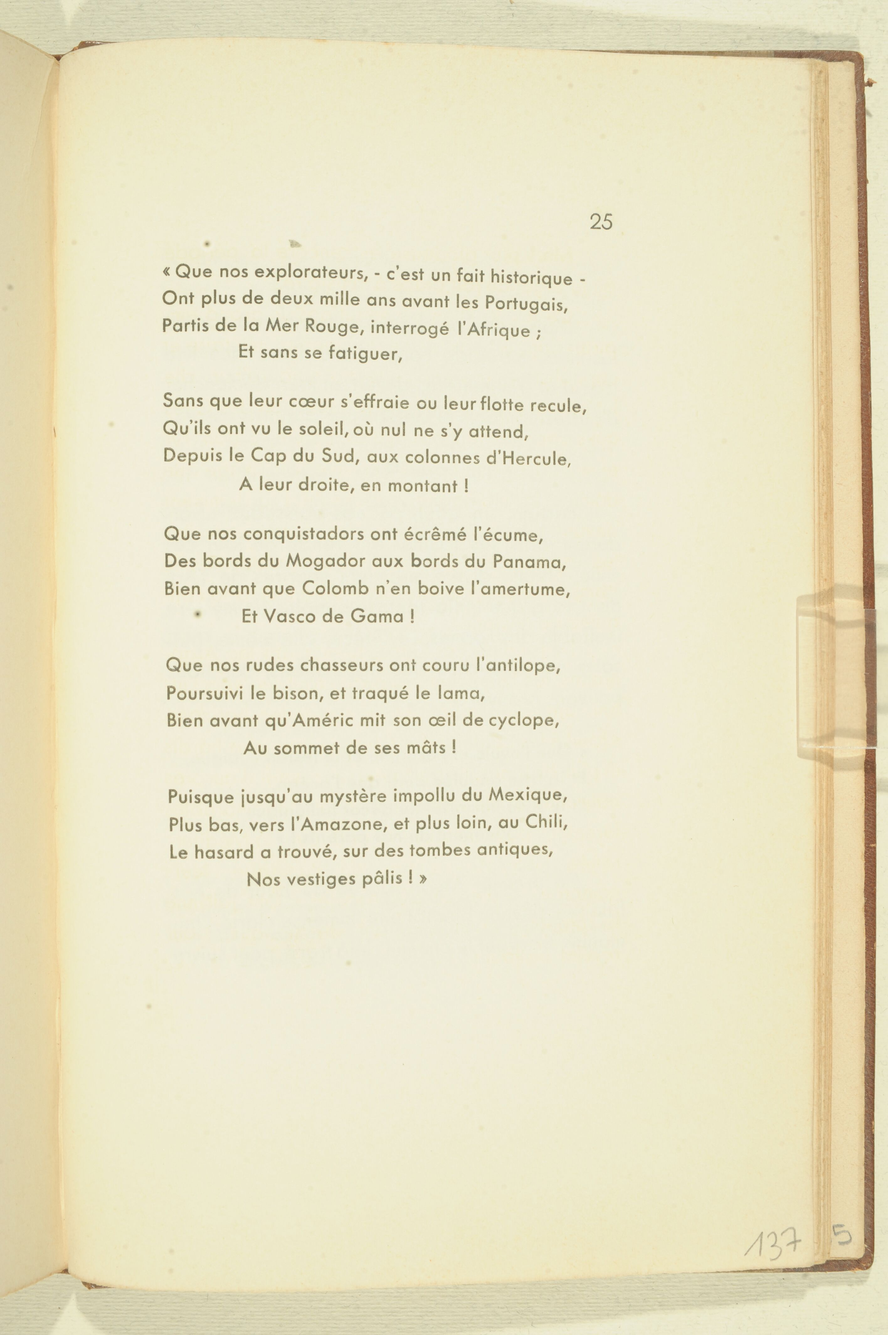N°Page: (571, 183, 638, 237)
Vers: (130, 254, 607, 288), (148, 383, 602, 416), (150, 703, 601, 733), (149, 311, 575, 340), (147, 547, 606, 573), (156, 444, 595, 471), (154, 516, 577, 544), (147, 576, 579, 603), (151, 412, 577, 438), (144, 837, 566, 863), (166, 783, 570, 810), (140, 288, 565, 313), (156, 655, 587, 678), (157, 811, 604, 832), (202, 472, 497, 502), (227, 863, 470, 897), (150, 683, 509, 705), (210, 734, 486, 759), (221, 601, 457, 630), (215, 340, 429, 371)
